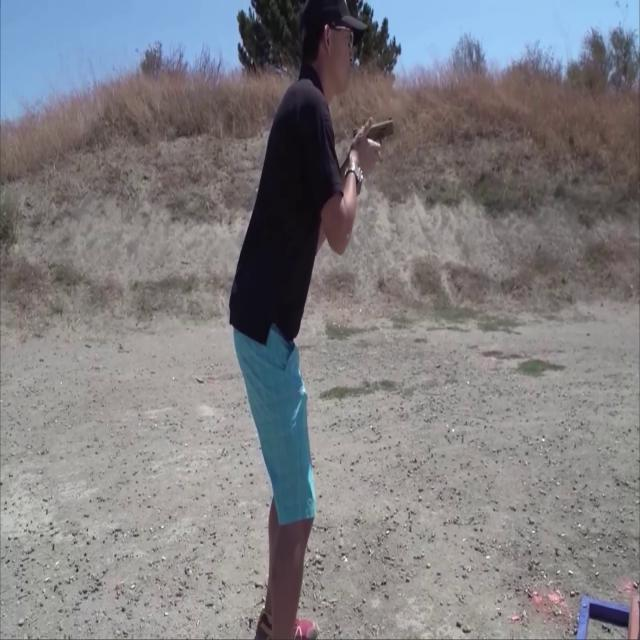Gun: (352, 117, 394, 177)
